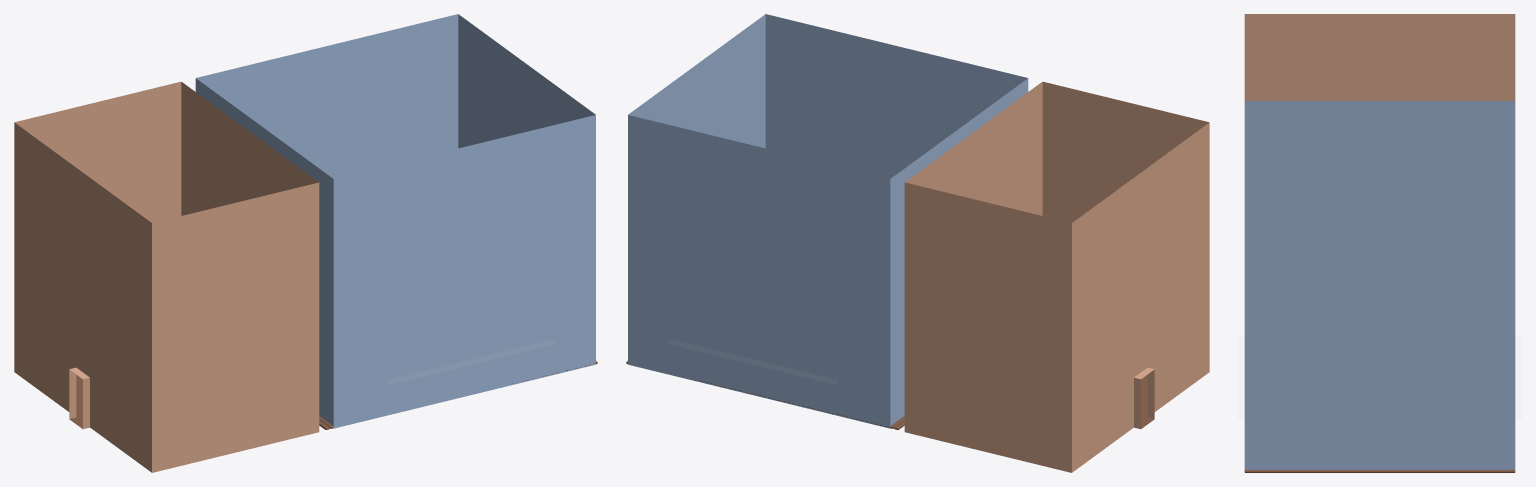
File: LabyRoom.fbx
The picture shows the model from 3 angles, left to right: view 1: azimuth 30°, elevation 25°; view 2: azimuth 150°, elevation 25°; view 3: azimuth 270°, elevation 25°; orthographic projection.
Parts seen in each view (by area): view 1: LabyrintRoom, SleepRoom, LabyrintRoom.001; view 2: LabyrintRoom, SleepRoom; view 3: LabyrintRoom, SleepRoom, BodenLivingRoomSleepRoom.001.
Part boxes in pixels (box(x1,y1,x2,y2)): LabyrintRoom: box(195, 14, 595, 428); SleepRoom: box(14, 81, 319, 472); LabyrintRoom.001: box(386, 353, 535, 414); LabyrintRoom: box(628, 14, 1028, 428); SleepRoom: box(904, 81, 1209, 472); LabyrintRoom: box(1244, 101, 1515, 469); SleepRoom: box(1244, 14, 1515, 100); BodenLivingRoomSleepRoom.001: box(1244, 470, 1515, 472).
Bounding box in the file's own units: 1898 × 1000 × 1048.
